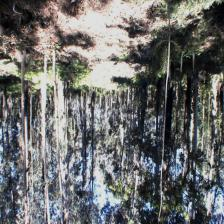trunktrack_idkeyframe: (21, 50, 27, 125)
